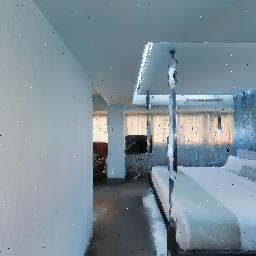bed: (148, 147, 256, 256)
